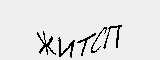Ж: (35, 31, 56, 58)
И: (58, 34, 75, 60)
П: (102, 21, 122, 51)
С: (91, 25, 108, 56)
Т: (76, 31, 95, 58)
